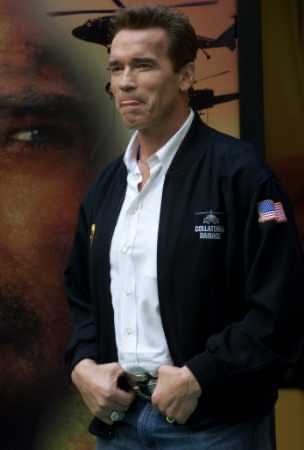Face: (110, 34, 174, 125)
